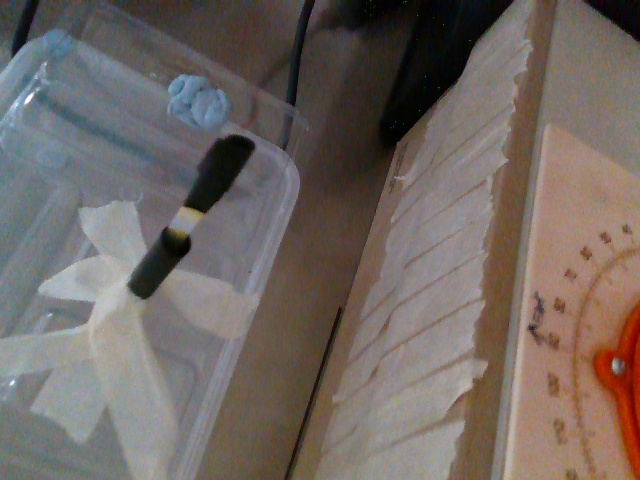test_strip: (166, 132, 253, 237)
